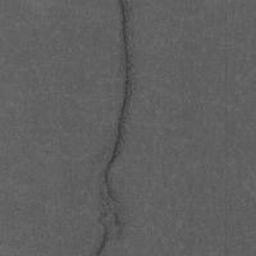Inclusion: (90, 0, 136, 256)
